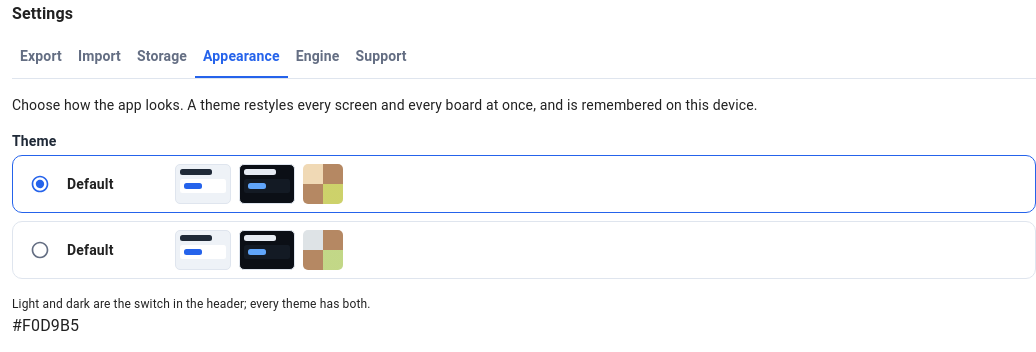
Test: Settings → Appearance › applies a choice at once, board and all, and keeps it
Click the 2nd radio button labelled "Default". click: (90, 250)
box: [12, 220, 1035, 278]
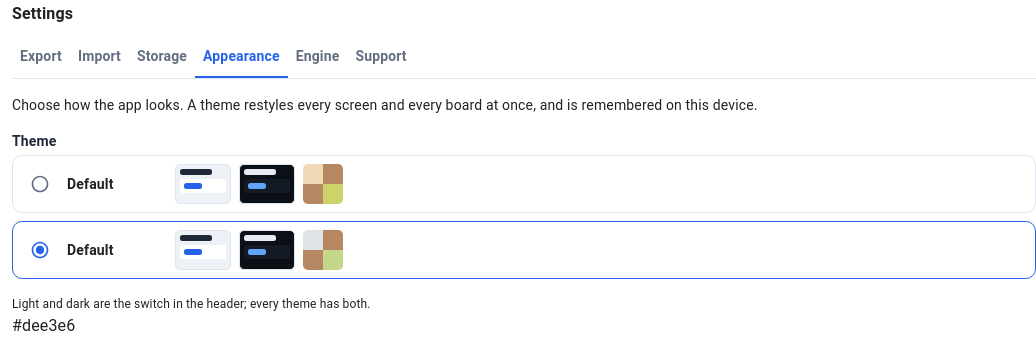
expect the text with test id "light-square" reads "#dee3e6": met, box [12, 316, 75, 335]
